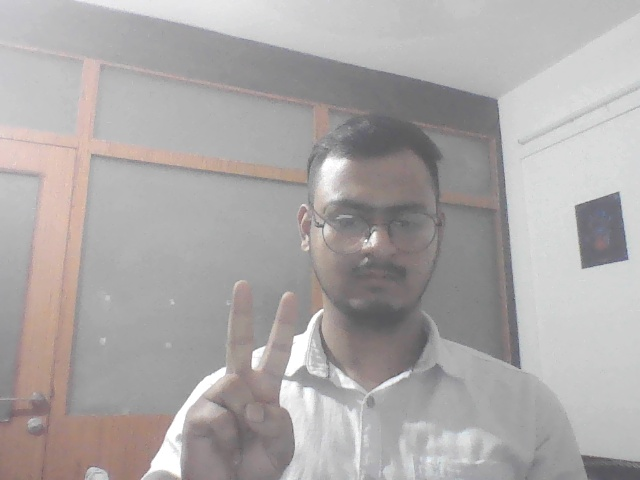Peace: (157, 274, 315, 480)
